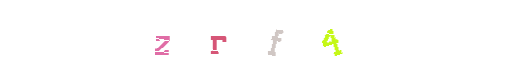4: (291, 0, 371, 80)
F: (239, 0, 319, 80)
R: (225, 0, 305, 80)
Z: (148, 0, 228, 80)
